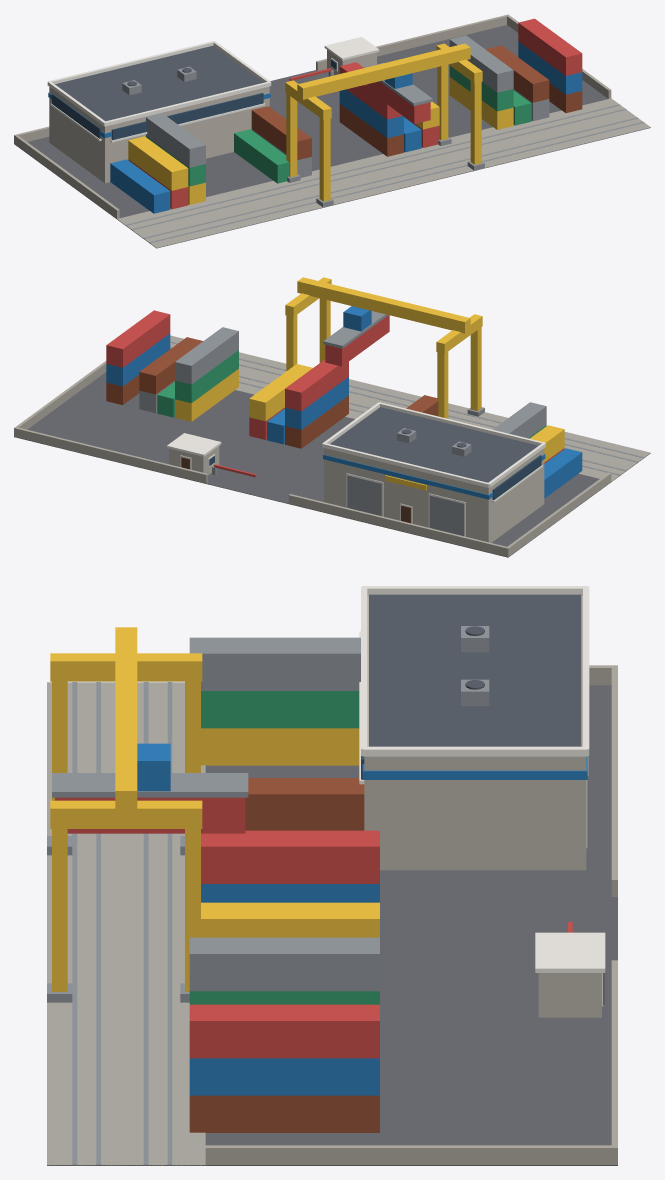
The model's file is railfreight.glb.
3 renders of one model, top to bottom at view 1: azimuth 30°, elevation 25°; view 2: azimuth 150°, elevation 25°; view 3: azimuth 270°, elevation 25°, orthographic. The views are drawn at different scales.
Parts seen in each view (by area): view 1: container (×22), loading_area, yard, roof, shed, rail (×4), crane_leg (×4), yard_wall (×3), crane_girder, parapet (×4), window_band (×2), crane_beam (×2) (+4 smaller); view 2: container (×18), yard, shed, roof, yard_wall (×4), loading_area, crane_girder, crane_leg (×4), garage_door (×2), parapet (×2), crane_beam (×2), rail (×2) (+6 smaller); view 3: container (×13), yard, loading_area, roof, shed, yard_wall (×3), rail (×4), crane_beam (×2), crane_leg (×4), parapet (×4), crane_girder, crane_spreader (+4 smaller).
Boxes of the visible parts, x1,y1,x2,y2 form: container (×22): [110, 18, 582, 213]; loading_area: [117, 98, 650, 247]; yard: [14, 25, 650, 248]; roof: [55, 45, 263, 121]; shed: [49, 86, 269, 183]; rail (×4): [126, 104, 644, 243]; crane_leg (×4): [286, 64, 481, 201]; yard_wall (×3): [14, 14, 611, 218]; crane_girder: [297, 43, 470, 99]; parapet (×4): [47, 41, 271, 126]; window_band (×2): [52, 93, 263, 140]; crane_beam (×2): [285, 43, 482, 120]; container (×18): [106, 310, 582, 498]; yard: [14, 372, 650, 557]; shed: [324, 448, 544, 542]; roof: [330, 407, 538, 482]; yard_wall (×4): [14, 361, 611, 556]; loading_area: [170, 335, 650, 481]; crane_girder: [297, 277, 470, 333]; crane_leg (×4): [286, 298, 481, 418]; garage_door (×2): [347, 475, 464, 536]; parapet (×2): [322, 402, 545, 487]; crane_beam (×2): [285, 277, 482, 353]; rail (×2): [170, 341, 644, 462]; container (×13): [55, 637, 379, 1132]; yard: [47, 685, 617, 1165]; loading_area: [47, 682, 205, 1165]; roof: [369, 594, 581, 746]; shed: [364, 596, 586, 870]; yard_wall (×3): [205, 665, 617, 1164]; rail (×4): [72, 682, 172, 1164]; crane_beam (×2): [50, 653, 202, 828]; crane_leg (×4): [52, 681, 200, 991]; parapet (×4): [361, 586, 589, 756]; crane_girder: [115, 627, 137, 813]; crane_spreader: [52, 773, 248, 797].
Size of the model in its own units: 72 by 15 by 36.
